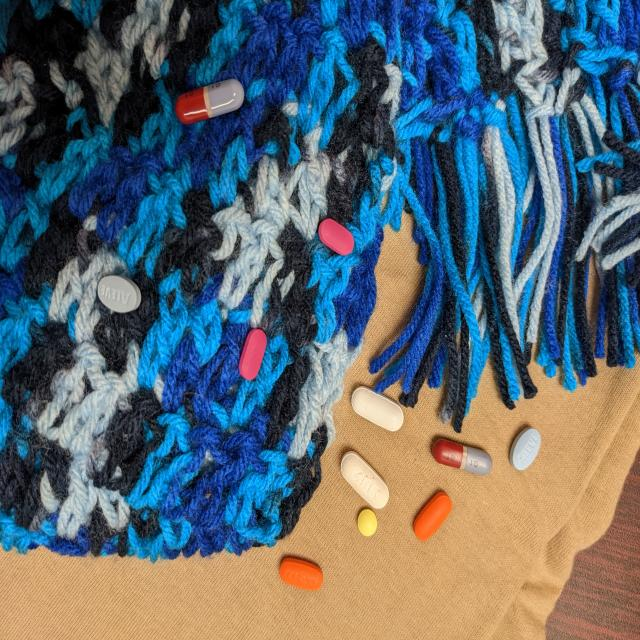non-organic waste: (174, 77, 245, 125), (340, 450, 389, 510), (350, 384, 405, 432), (432, 437, 494, 476), (412, 490, 453, 543), (97, 273, 142, 315), (278, 556, 324, 592), (238, 327, 268, 381), (509, 425, 542, 471), (318, 217, 355, 257), (356, 507, 378, 538)
